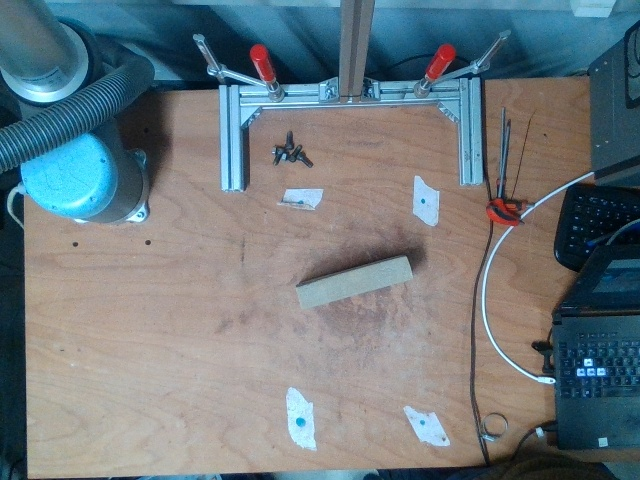brick-side: (296, 258, 411, 307)
